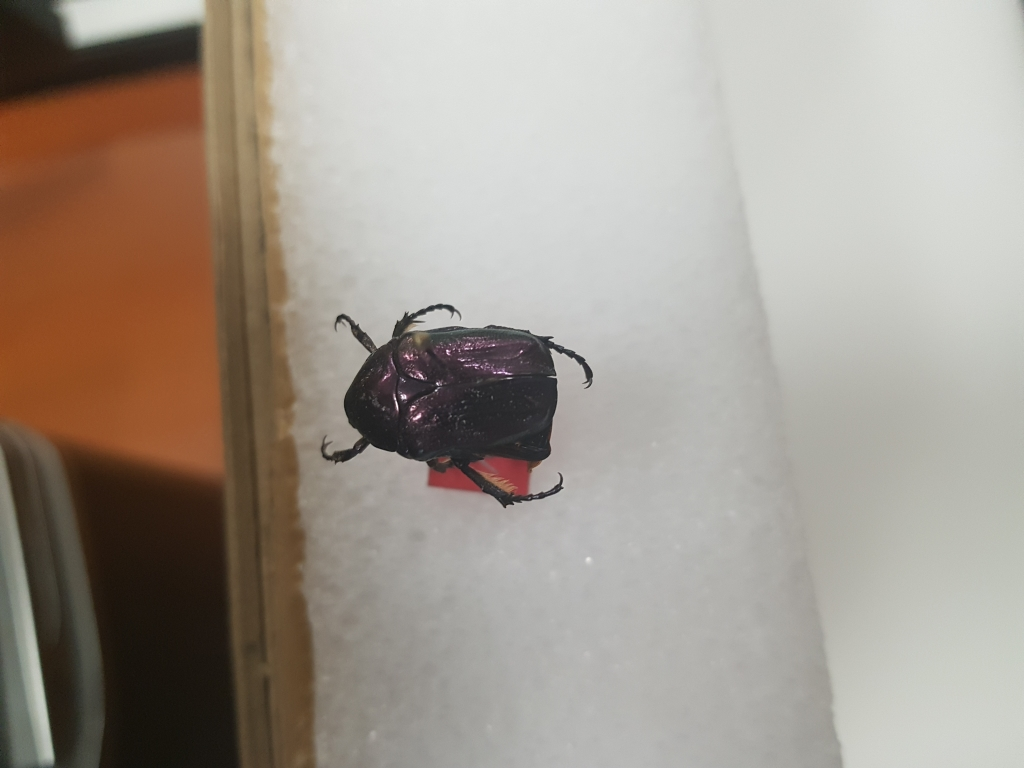Protaetia_besucheti: (302, 299, 592, 512)
